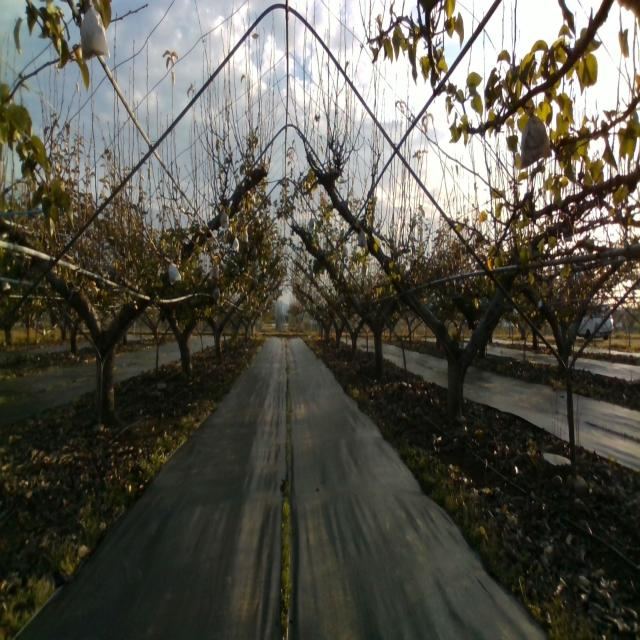pearbags: (520, 105, 553, 169), (80, 5, 111, 64), (168, 258, 182, 285), (356, 226, 368, 254)
